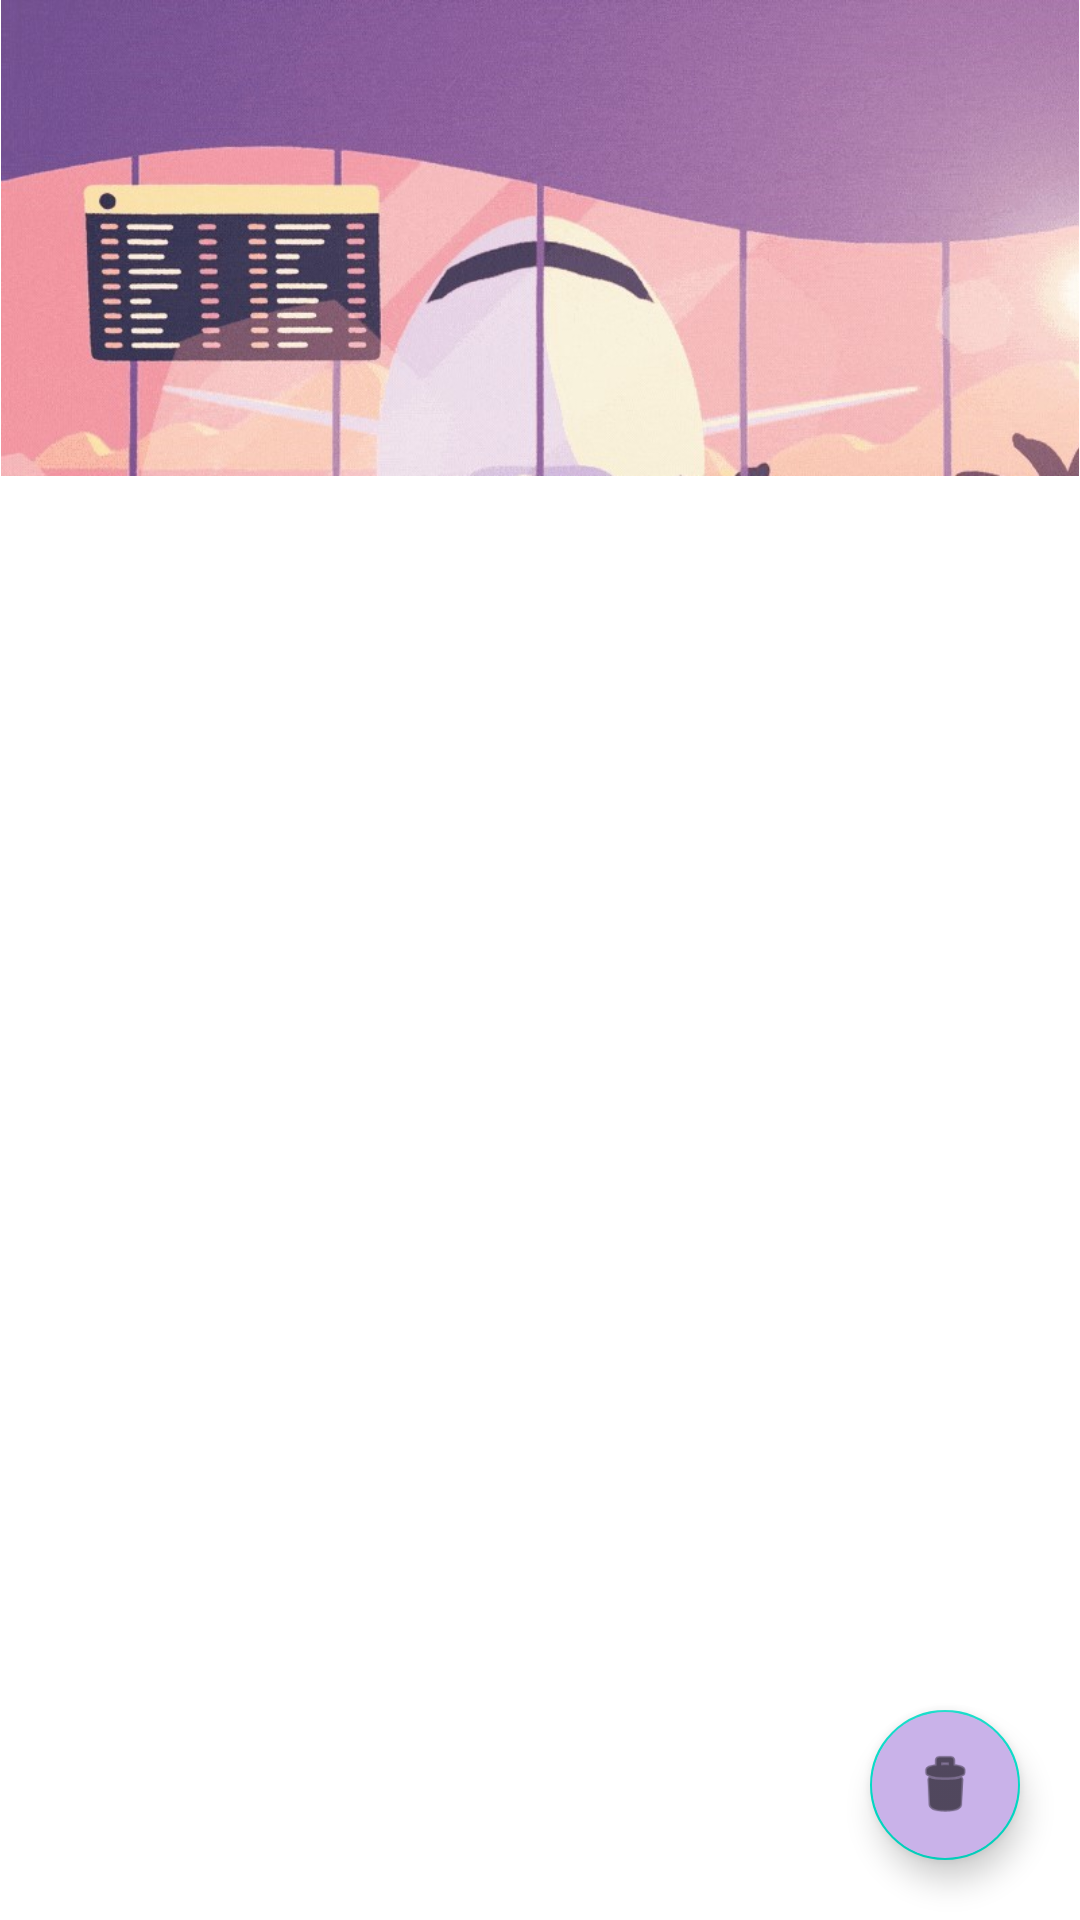

Named icons in this screenshot (1080 × 1920) and their centers, (x=x, y=y):
delete: (x=945, y=1785)
